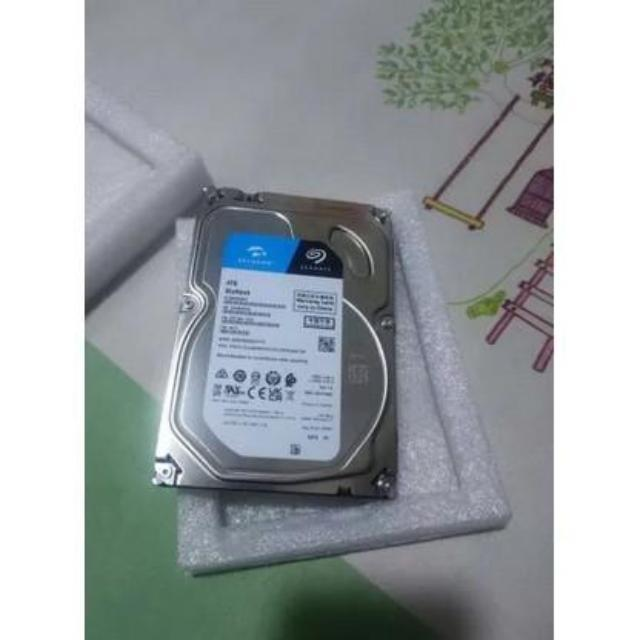DISK: (150, 168, 402, 504)
